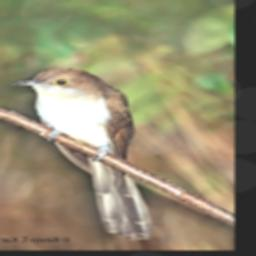Cuckoo: (14, 67, 154, 240)
